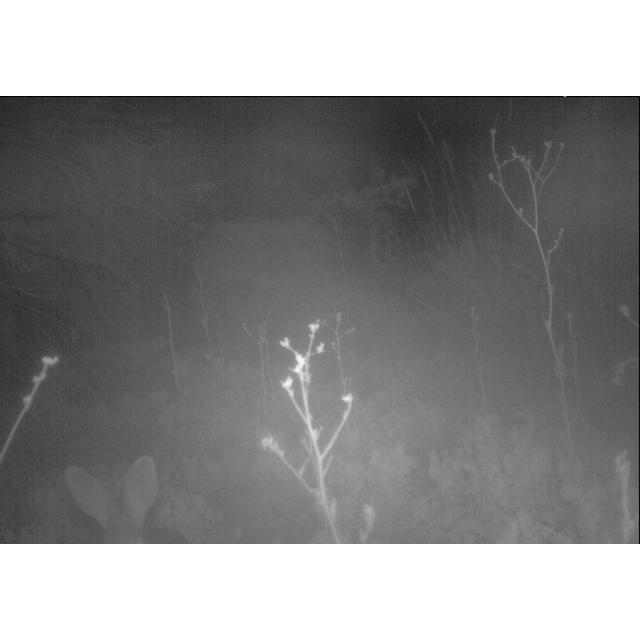animals: (0, 452, 164, 544)
